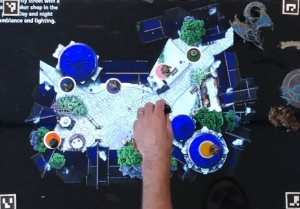blue: (57, 75, 79, 94)
green: (185, 47, 202, 64)
orange: (42, 130, 64, 150)
pink: (156, 62, 173, 79)
violet: (104, 77, 124, 95)
yellow: (196, 138, 219, 158)
